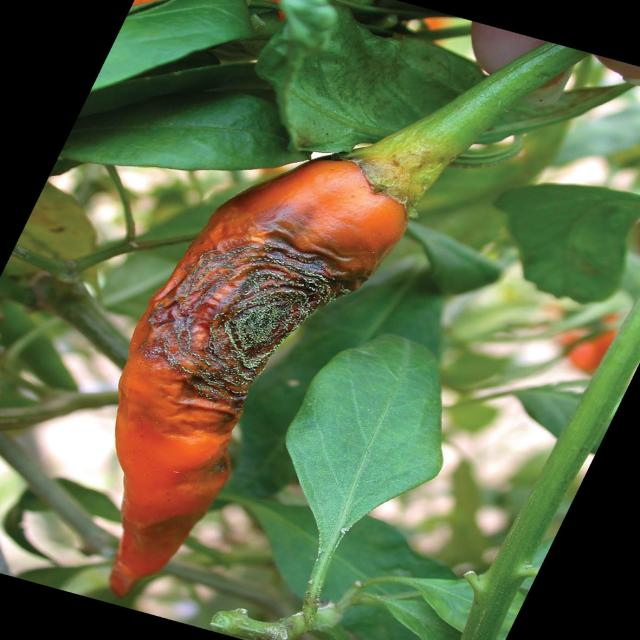Moko: (143, 165, 396, 478)
